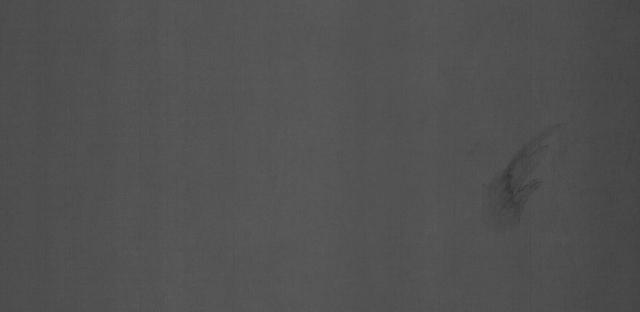water_spot: (471, 111, 565, 236)
